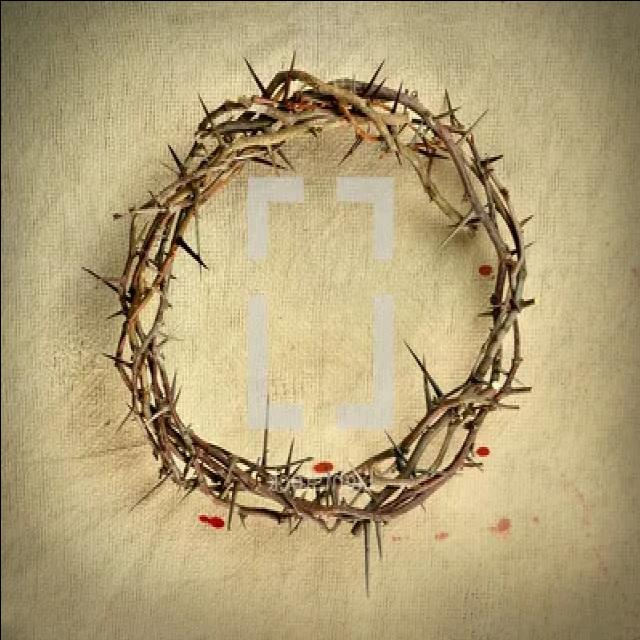crown: (92, 53, 536, 543)
